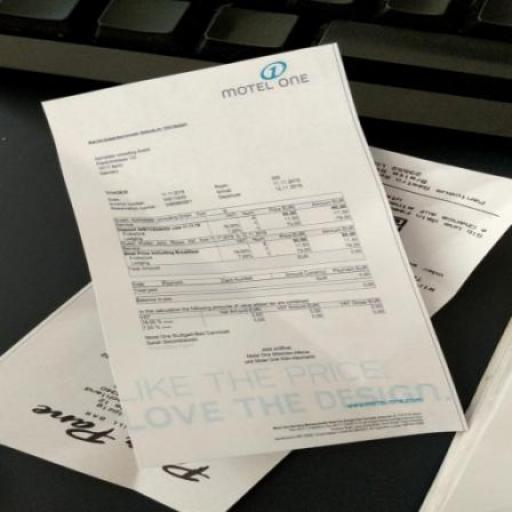paper: (0, 37, 489, 489)
